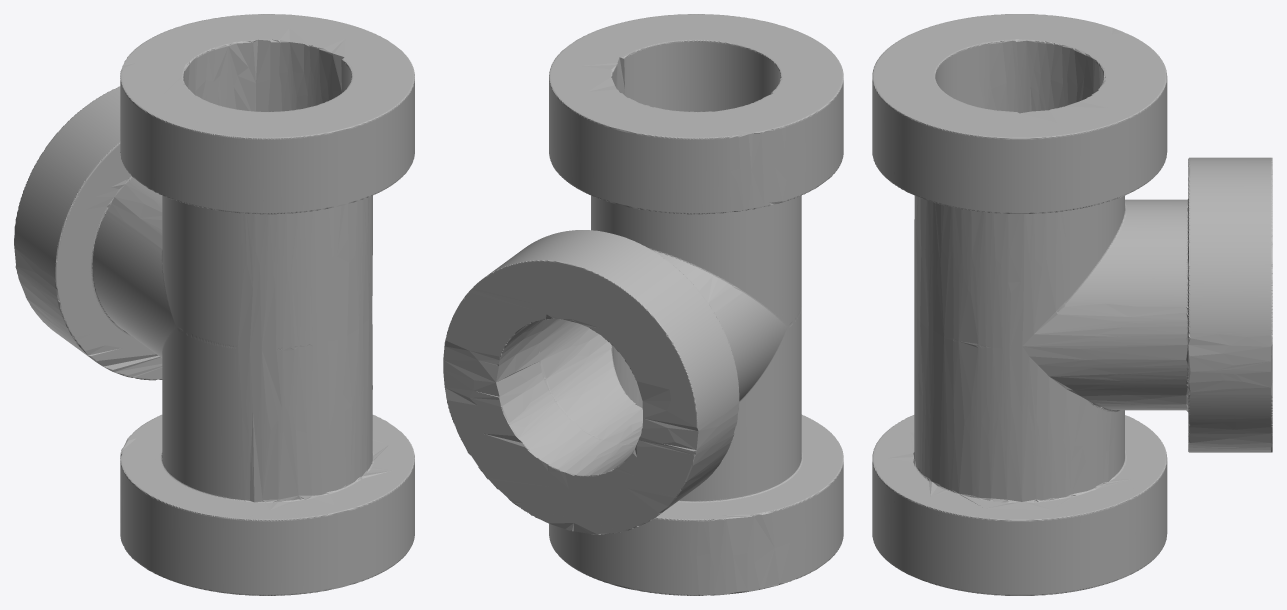
File: Pipe9.fbx
3 renders of one model, left to right at view 1: azimuth 30°, elevation 25°; view 2: azimuth 150°, elevation 25°; view 3: azimuth 270°, elevation 25°, orthographic.
Visible parts, largest first — view 1: Pipe9; view 2: Pipe9; view 3: Pipe9.
Boxes of the visible parts, box(x1,y1,x2,y2) form: Pipe9: box(14, 14, 414, 595); Pipe9: box(443, 14, 843, 595); Pipe9: box(872, 14, 1272, 595).
Size of the model in its own units: 199 by 341 by 270.
